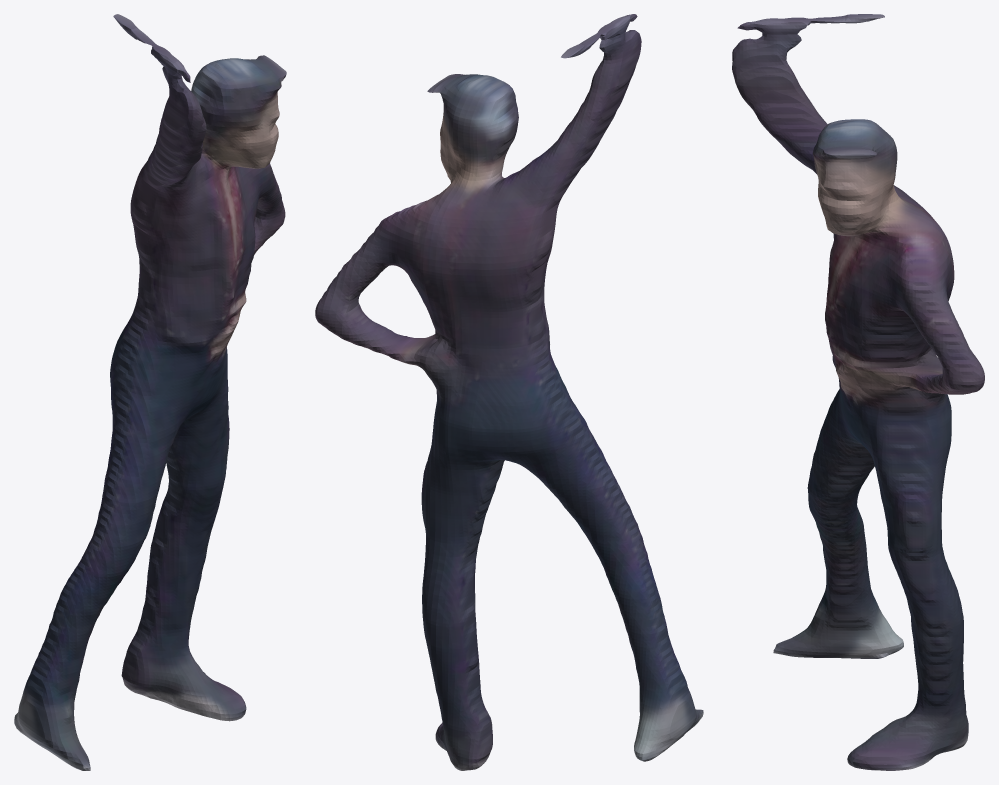
Rendered from 0121_tex.glb.
3 renders of one model, left to right at view 1: azimuth 30°, elevation 25°; view 2: azimuth 150°, elevation 25°; view 3: azimuth 270°, elevation 25°, orthographic. The views are drawn at different scales.
Parts seen in each view (by area): view 1: 0121_tex.obj; view 2: 0121_tex.obj; view 3: 0121_tex.obj.
Part boxes in pixels (x1,y1,x2,y2): 0121_tex.obj: (14, 14, 286, 770); 0121_tex.obj: (315, 14, 703, 770); 0121_tex.obj: (732, 14, 984, 770).
Bounding box in the file's own units: 0.4043 × 0.8895 × 0.2916.
